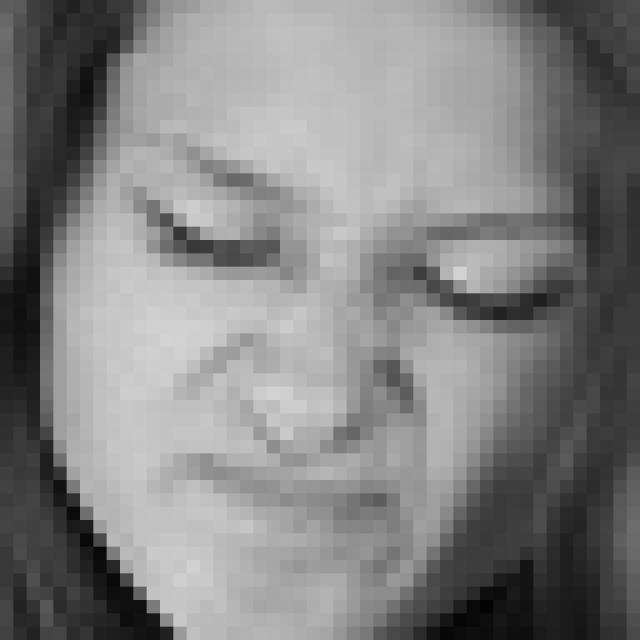disgust: (120, 127, 594, 582)
